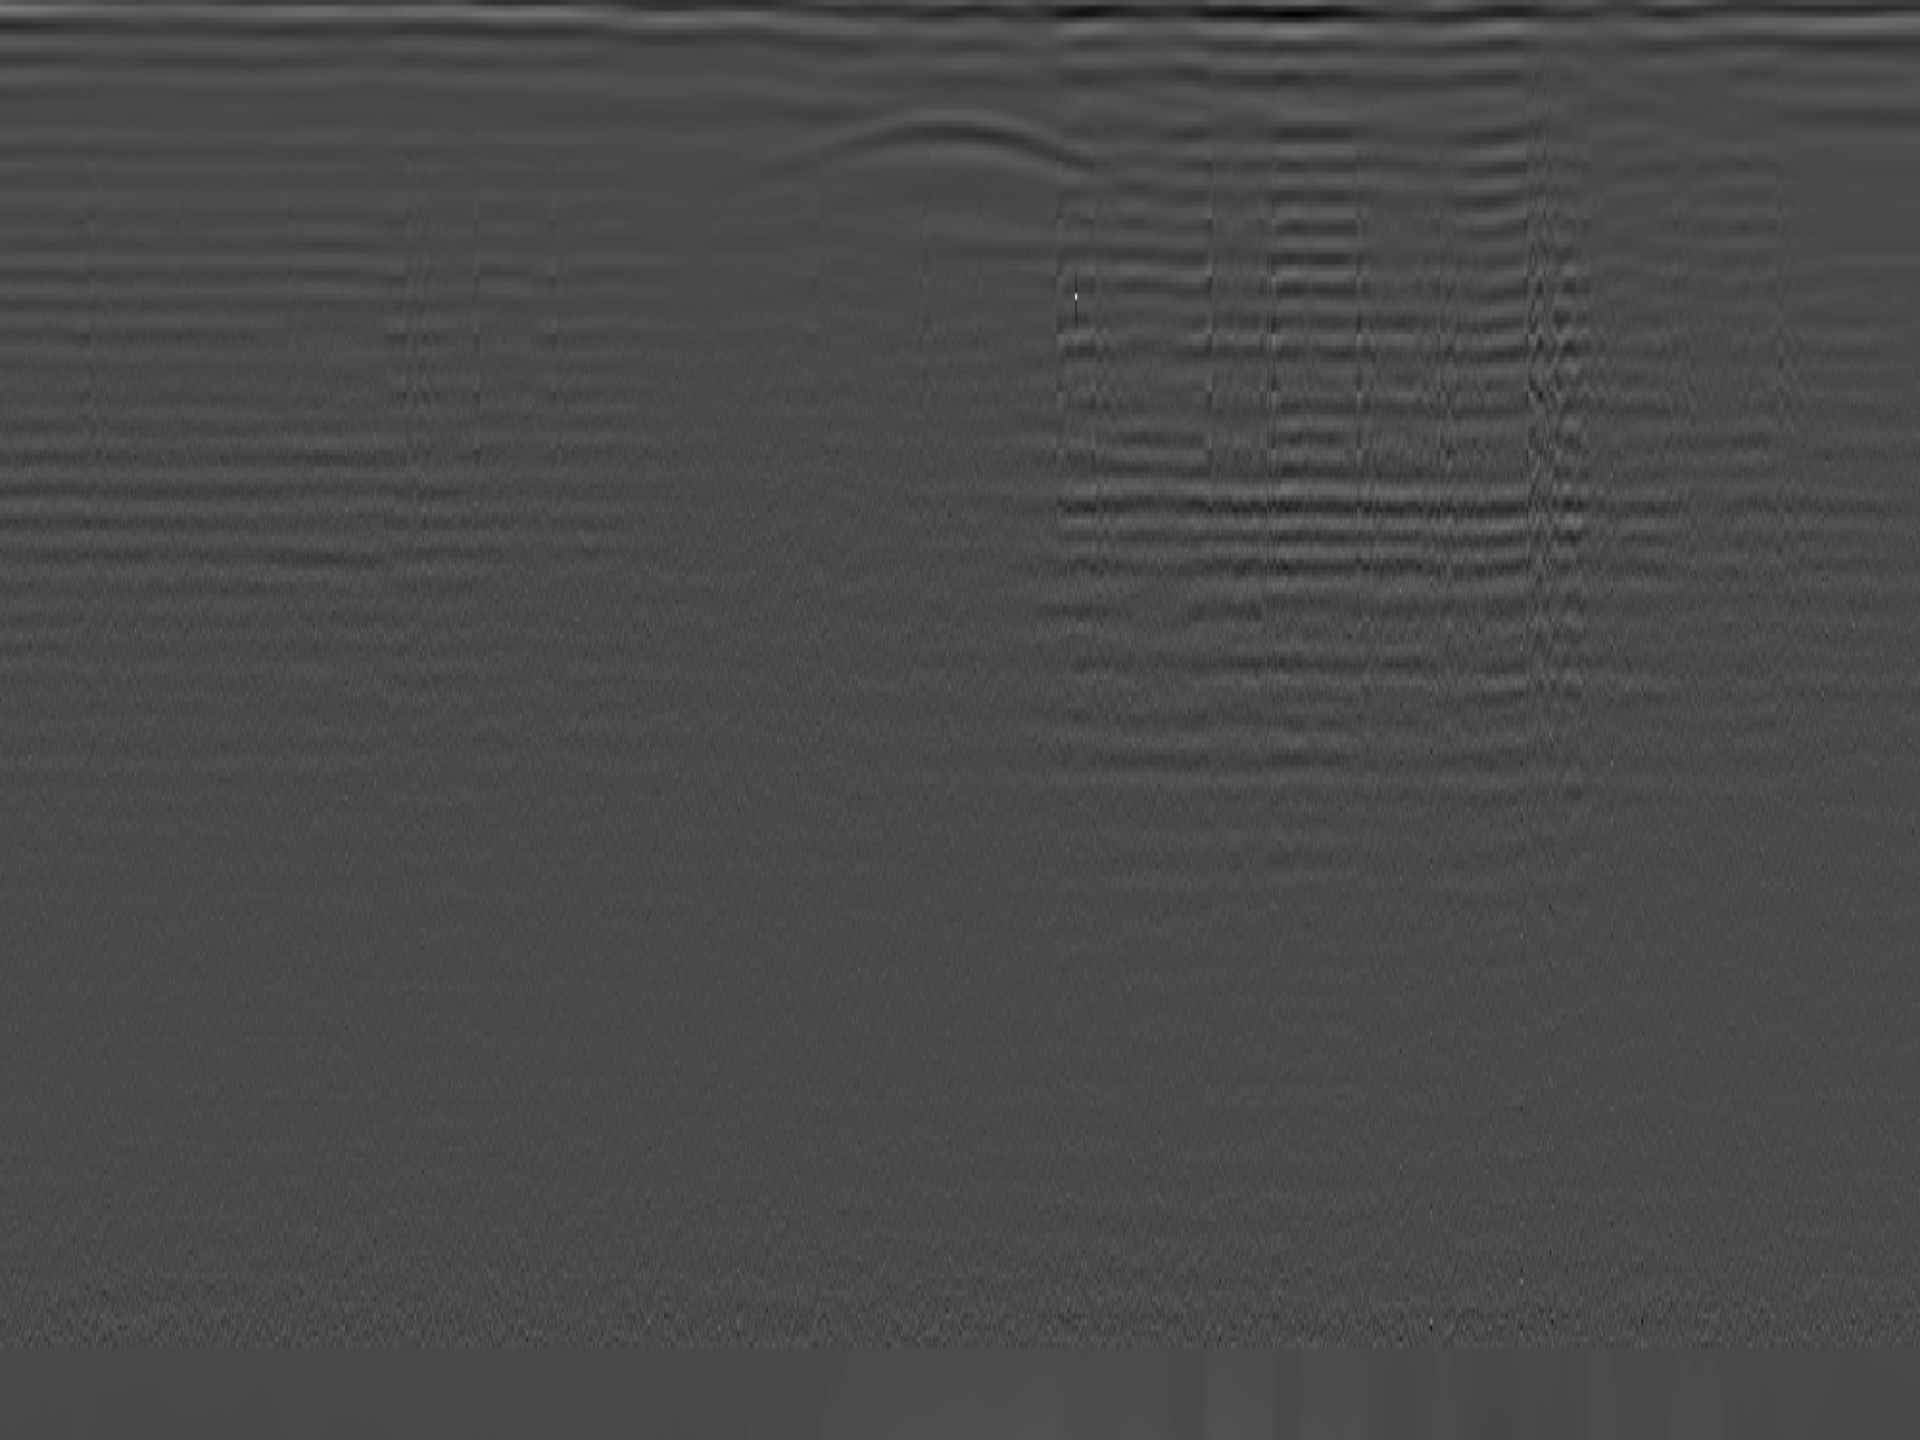Tunnel: (733, 109, 1110, 191)
